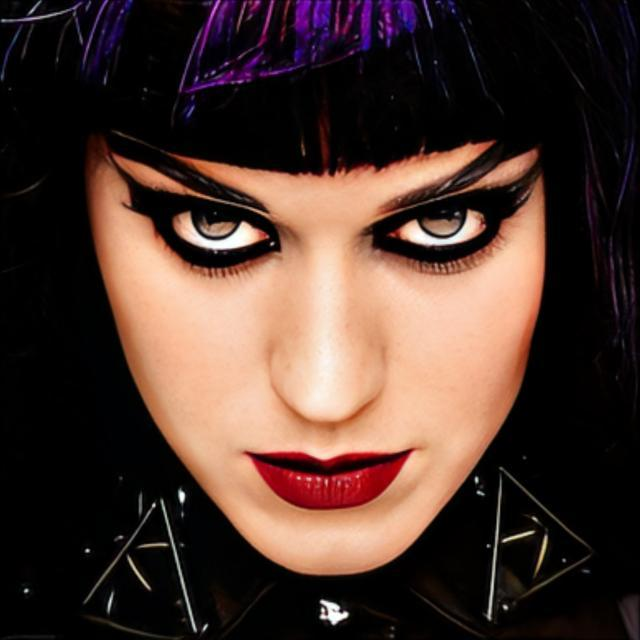anger: (80, 22, 549, 578)
